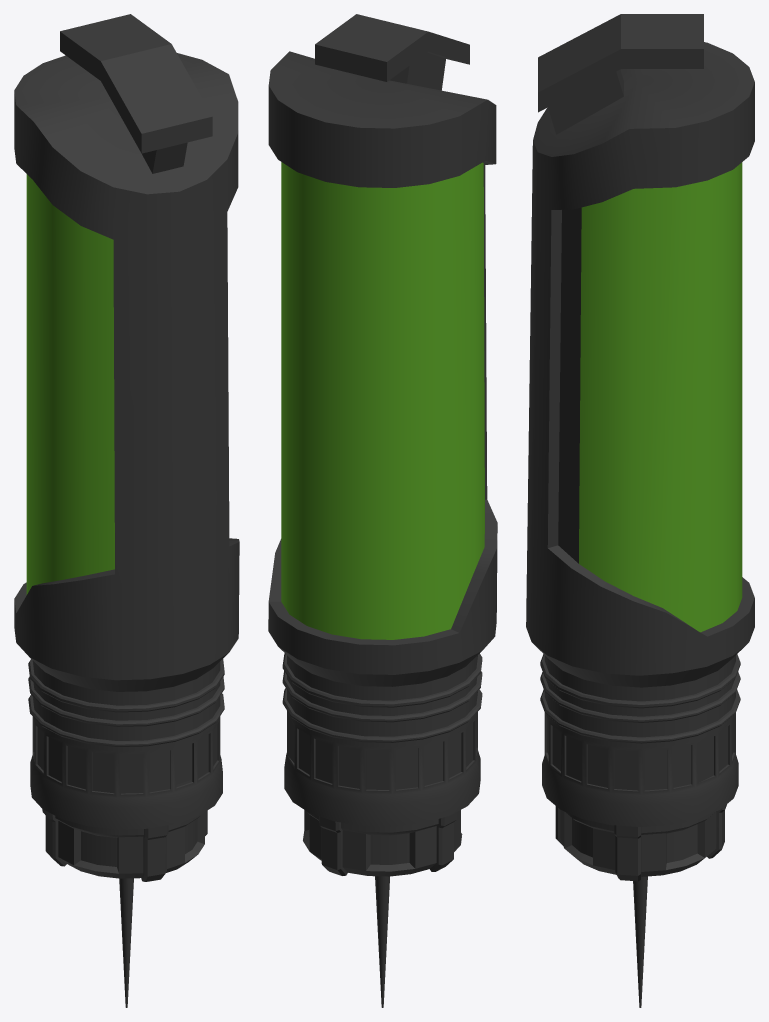
File: SpeedBoost.fbx
The picture shows the model from 3 angles, left to right: view 1: azimuth 30°, elevation 25°; view 2: azimuth 150°, elevation 25°; view 3: azimuth 270°, elevation 25°; orthographic projection.
Parts seen in each view (by area): view 1: polySurface44; view 2: polySurface44; view 3: polySurface44.
Boxes of the visible parts, x1,y1,x2,y2 form: polySurface44: (14,14,239,1007); polySurface44: (268,14,497,1007); polySurface44: (526,14,754,1007).
Bounding box in the file's own units: 16.85 × 79.07 × 16.8.
